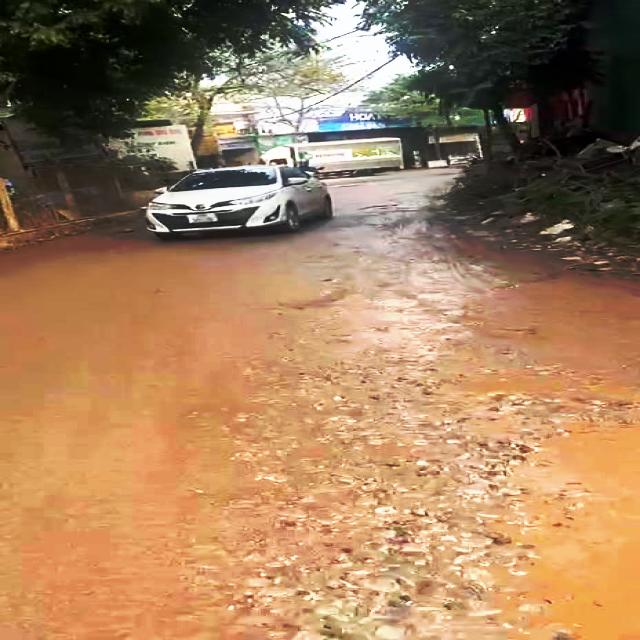pothole: (233, 359, 640, 640)
